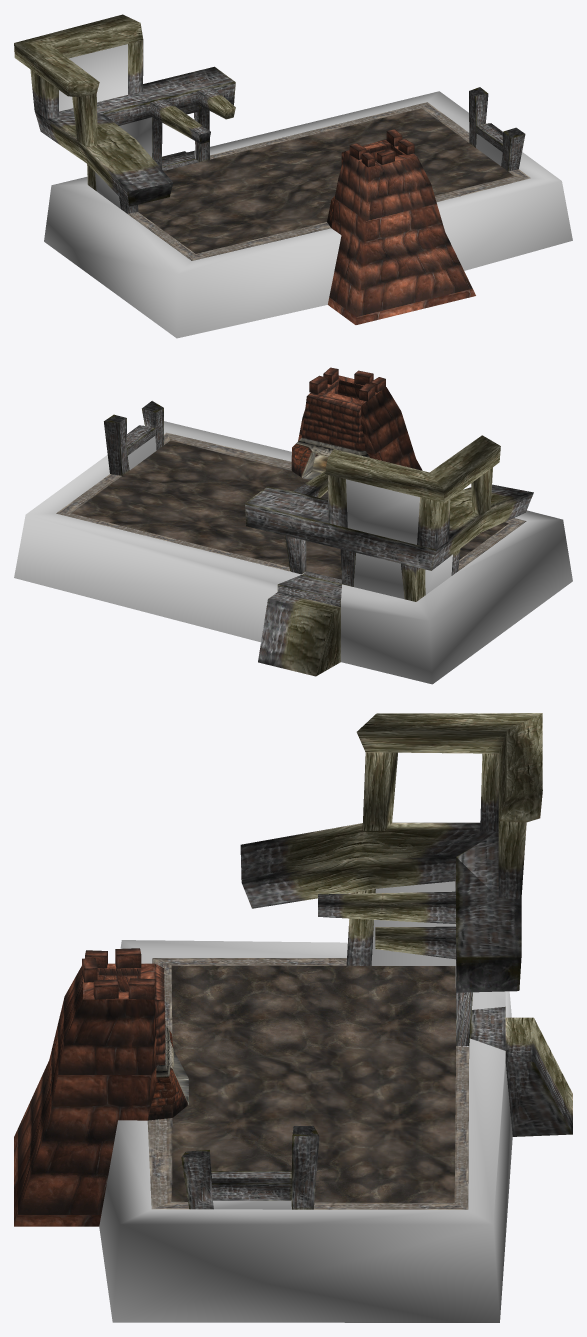
The model's file is huruinedbuildingssmall01.obj.
The picture shows the model from 3 angles, top to bottom: view 1: azimuth 30°, elevation 25°; view 2: azimuth 150°, elevation 25°; view 3: azimuth 270°, elevation 25°; orthographic projection. The views are drawn at different scales.
Parts seen in each view (by area): view 1: Small01; view 2: Small01; view 3: Small01.
Boxes of the visible parts, x1,y1,x2,y2 form: Small01: (14, 14, 572, 338); Small01: (14, 367, 572, 684); Small01: (14, 713, 572, 1322).
Bounding box in the file's own units: 29.25 × 13.25 × 22.23.
